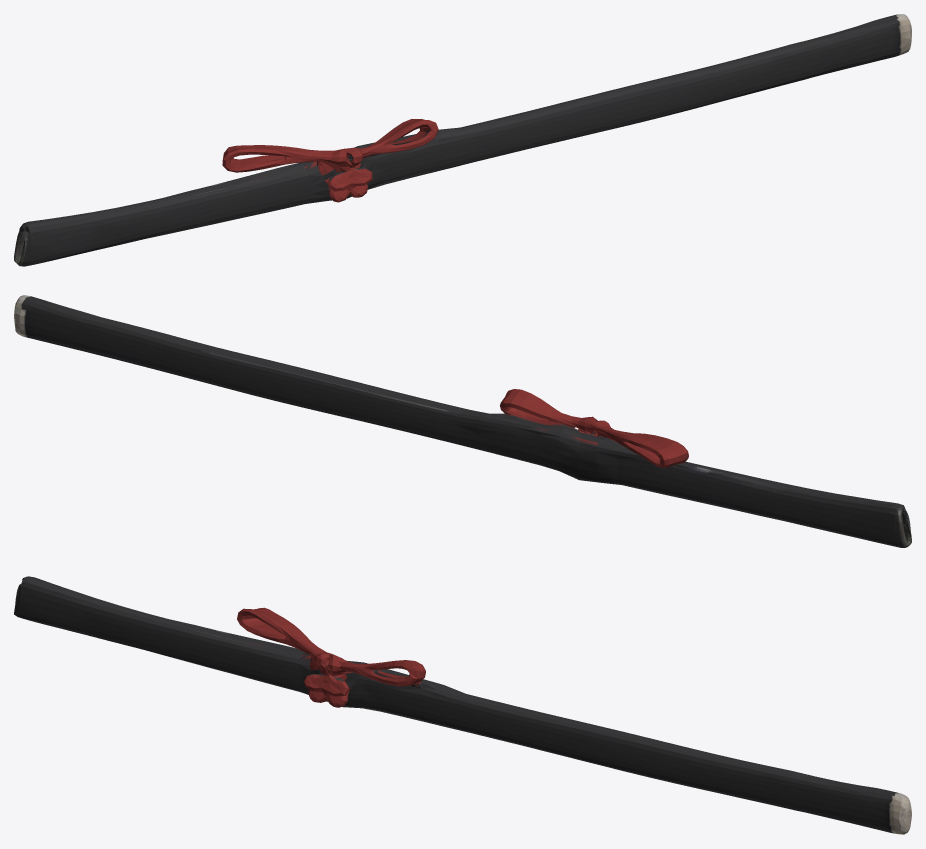
Rendered from Sheath.obj.
3 views of the same model, one above another, from view 1: azimuth 30°, elevation 25°; view 2: azimuth 150°, elevation 25°; view 3: azimuth 330°, elevation 25° (orthographic).
Parts seen in each view (by area): view 1: Sheath; view 2: Sheath; view 3: Sheath.
Boxes of the visible parts, x1,y1,x2,y2 form: Sheath: (14,14,911,266); Sheath: (14,295,911,547); Sheath: (14,576,911,834).
Size of the model in its own units: 7.42 by 0.533 by 0.4808.
